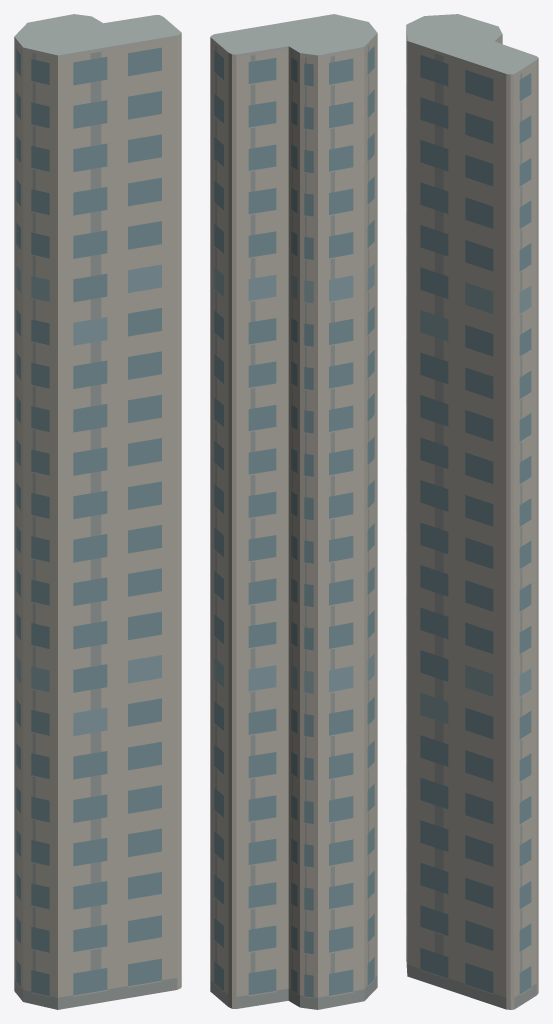
The model's file is survey-upis-32811225.glb.
3 renders of one model, left to right at view 1: azimuth 30°, elevation 25°; view 2: azimuth 210°, elevation 25°; view 3: azimuth 330°, elevation 25°, orthographic. The views are drawn at different scales.
Parts seen in each view (by area): view 1: survey-upis-32811225.tmp; view 2: survey-upis-32811225.tmp; view 3: survey-upis-32811225.tmp.
Part boxes in pixels (x1=…): survey-upis-32811225.tmp: x1=14, y1=14, x2=181, y2=1009; survey-upis-32811225.tmp: x1=210, y1=14, x2=377, y2=1009; survey-upis-32811225.tmp: x1=406, y1=14, x2=538, y2=1009.
Bounding box in the file's own units: 10.06 × 67.1 × 6.43.
